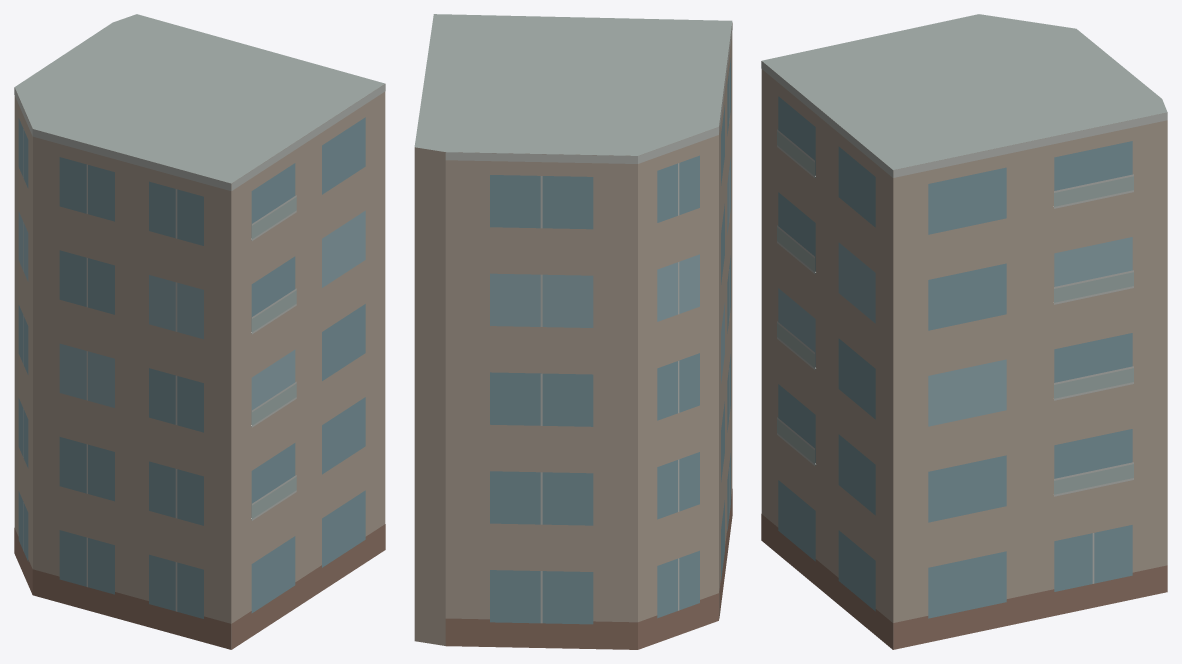
Rendered from survey-upis-32897093.glb.
3 views of the same model, side by side, from view 1: azimuth 30°, elevation 25°; view 2: azimuth 150°, elevation 25°; view 3: azimuth 270°, elevation 25° (orthographic). The views are drawn at different scales.
Visible parts, largest first — view 1: survey-upis-32897093.tmp; view 2: survey-upis-32897093.tmp; view 3: survey-upis-32897093.tmp.
Boxes of the visible parts, x1,y1,x2,y2 form: survey-upis-32897093.tmp: (14,14,385,649); survey-upis-32897093.tmp: (414,14,732,649); survey-upis-32897093.tmp: (761,14,1167,649).
Size of the model in its own units: 10.34 by 14.8 by 11.36.
